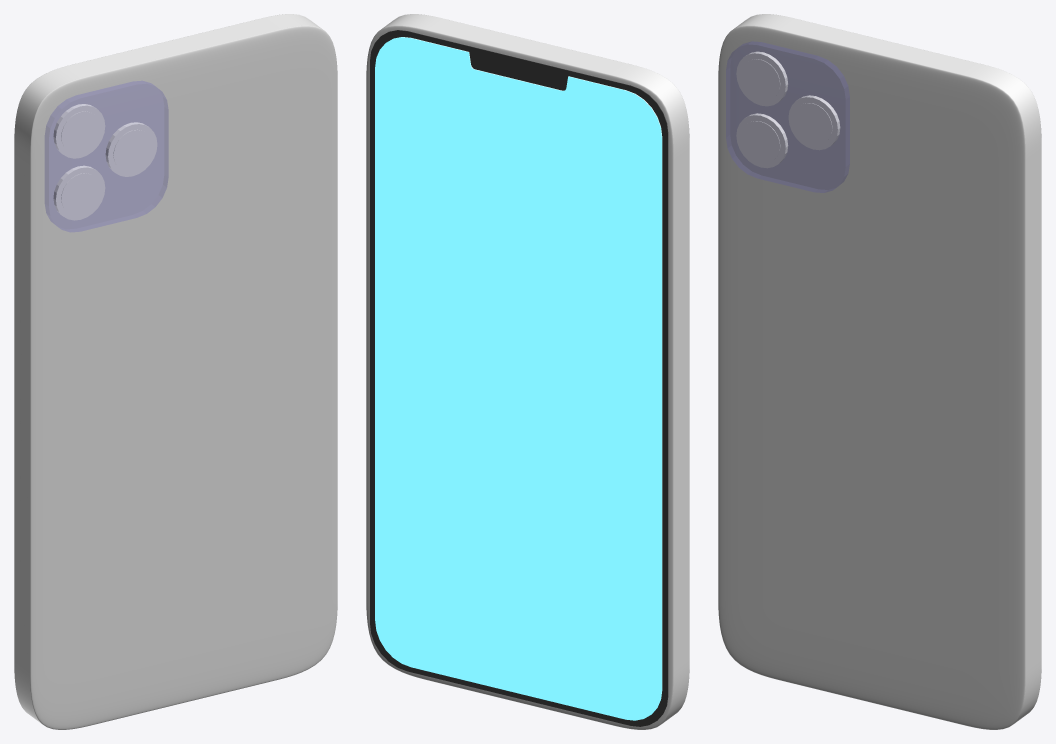
Rendered from iPhone12.fbx.
The picture shows the model from 3 angles, left to right: view 1: azimuth 30°, elevation 25°; view 2: azimuth 150°, elevation 25°; view 3: azimuth 330°, elevation 25°; orthographic projection.
Parts seen in each view (by area): view 1: Cube, CameraCover, Camera3Cover, Camera2Cover, Camera1Cover, Camera3Ring, Camera2Ring, Camera1Ring; view 2: Cube.002, Cube, Cube.001; view 3: Cube, CameraCover, Camera3Cover, Camera1Cover, Camera2Cover, Camera2Ring, Camera1Ring, Camera3Ring.
Part boxes in pixels (x1=…): Cube: x1=14, y1=14, x2=337, y2=729; CameraCover: x1=45, y1=81, x2=168, y2=232; Camera3Cover: x1=61, y1=173, x2=99, y2=214; Camera2Cover: x1=61, y1=111, x2=100, y2=152; Camera1Cover: x1=113, y1=129, x2=152, y2=171; Camera3Ring: x1=53, y1=165, x2=105, y2=220; Camera2Ring: x1=53, y1=104, x2=105, y2=158; Camera1Ring: x1=105, y1=122, x2=157, y2=176; Cube.002: x1=375, y1=37, x2=662, y2=720; Cube: x1=366, y1=14, x2=689, y2=729; Cube.001: x1=370, y1=30, x2=668, y2=726; Cube: x1=718, y1=14, x2=1041, y2=729; CameraCover: x1=726, y1=41, x2=849, y2=192; Camera3Cover: x1=741, y1=121, x2=780, y2=162; Camera1Cover: x1=793, y1=103, x2=832, y2=144; Camera2Cover: x1=741, y1=59, x2=780, y2=100; Camera2Ring: x1=736, y1=51, x2=788, y2=106; Camera1Ring: x1=788, y1=95, x2=840, y2=150; Camera3Ring: x1=736, y1=113, x2=788, y2=168.
Size of the model in its own units: 7.79 by 15.73 by 1.01.
